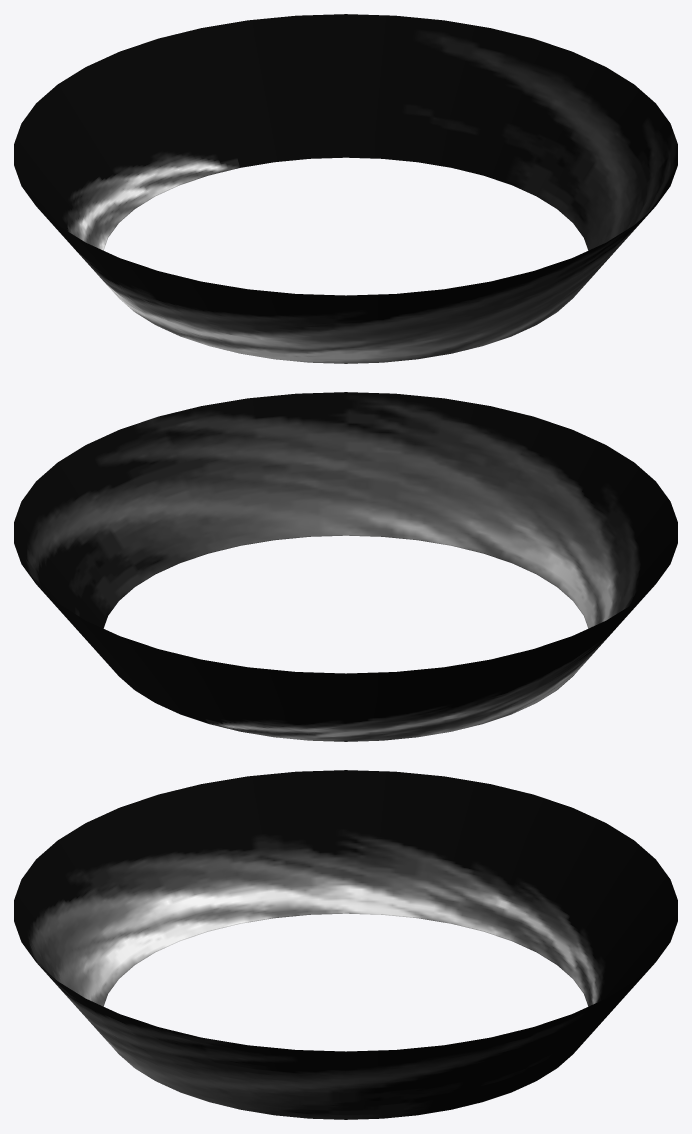
Rendered from M_XXPX02.FBX.
3 views of the same model, one above another, from view 1: azimuth 30°, elevation 25°; view 2: azimuth 150°, elevation 25°; view 3: azimuth 270°, elevation 25° (orthographic).
Visible parts, largest first — view 1: Cylinder001; view 2: Cylinder001; view 3: Cylinder001.
Boxes of the visible parts, bbox=[...] form: Cylinder001: bbox=[14, 14, 677, 363]; Cylinder001: bbox=[14, 392, 677, 741]; Cylinder001: bbox=[14, 770, 677, 1119].
Size of the model in its own units: 111 by 19.52 by 111.
